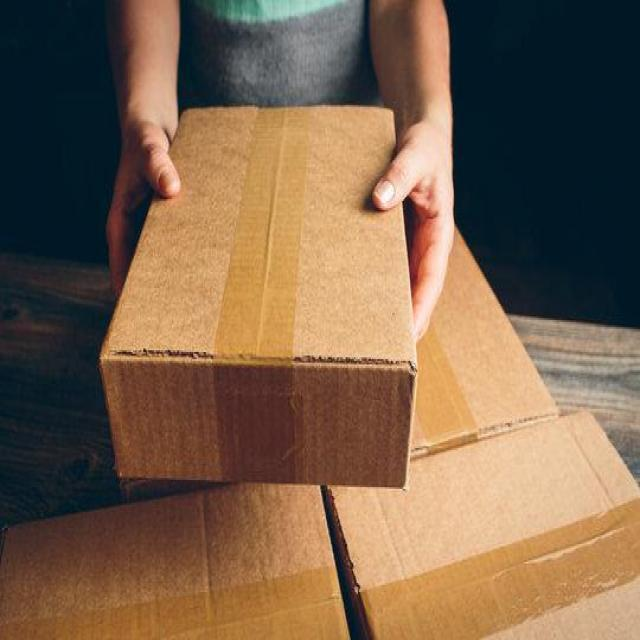box: (98, 103, 414, 494), (320, 400, 640, 640), (0, 474, 357, 639)
